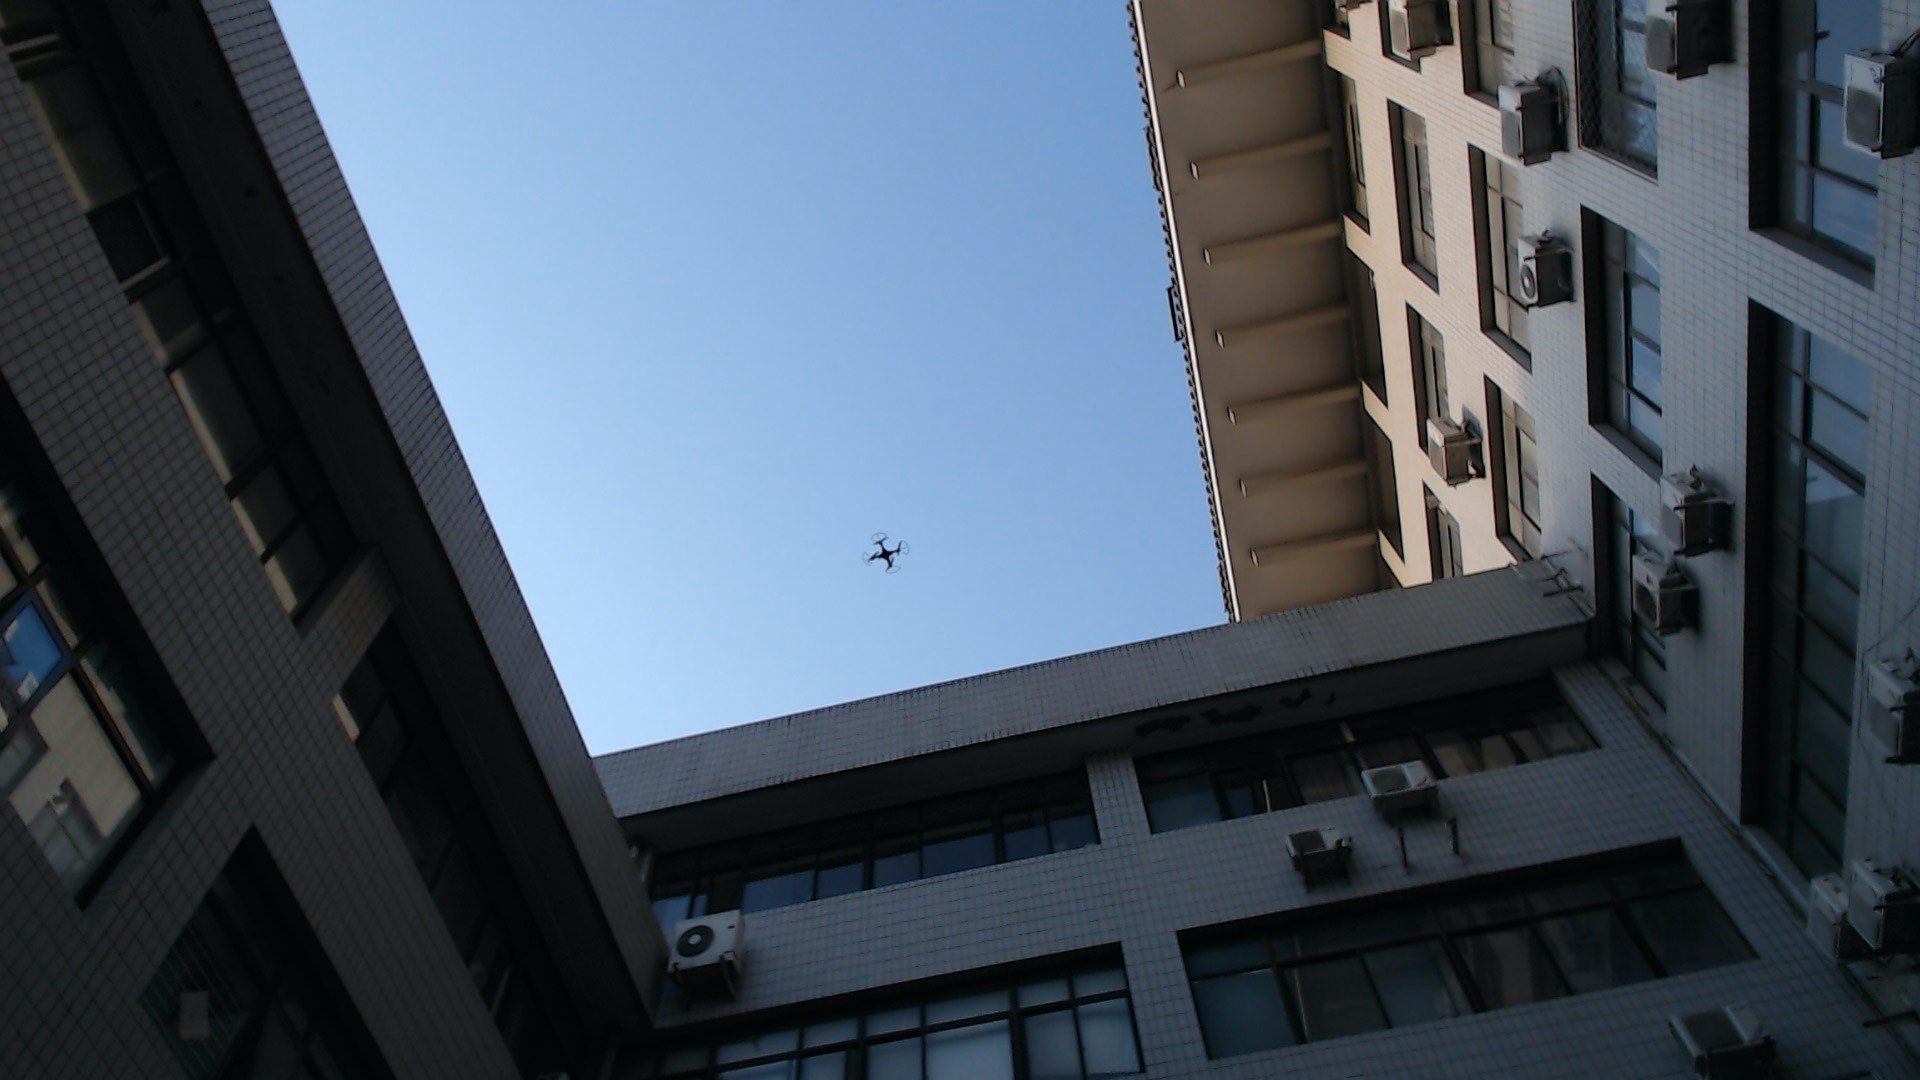drone: (858, 531, 911, 576)
